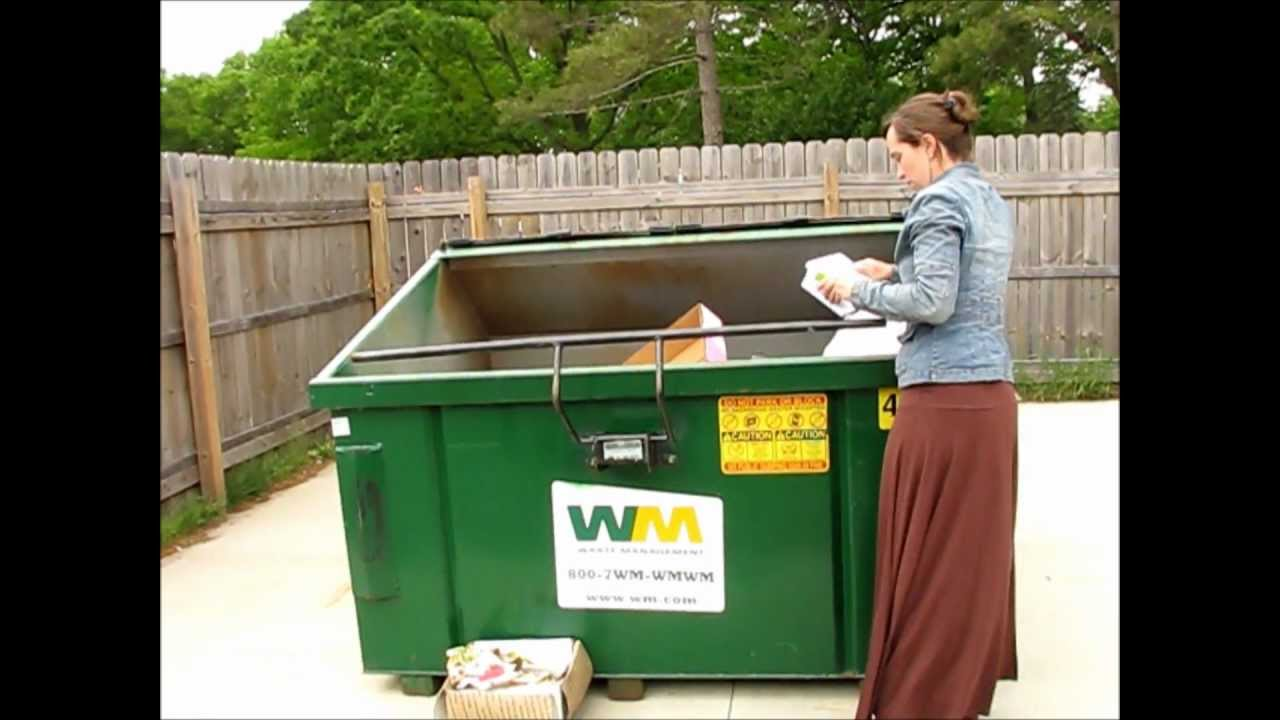Dumpster: (288, 201, 937, 689)
Person: (808, 82, 1036, 720)
